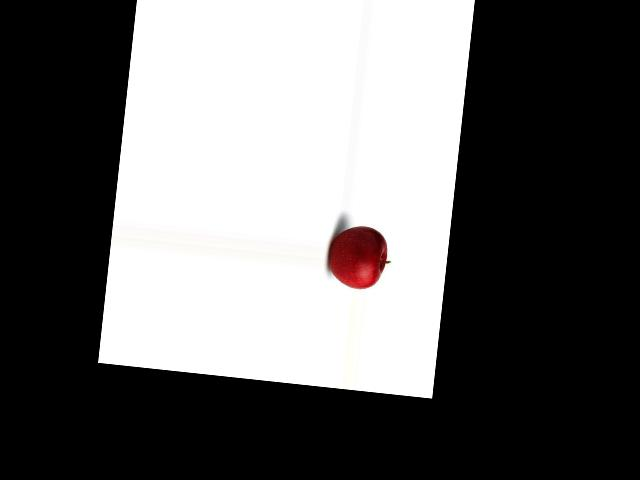apple: (324, 221, 395, 292)
